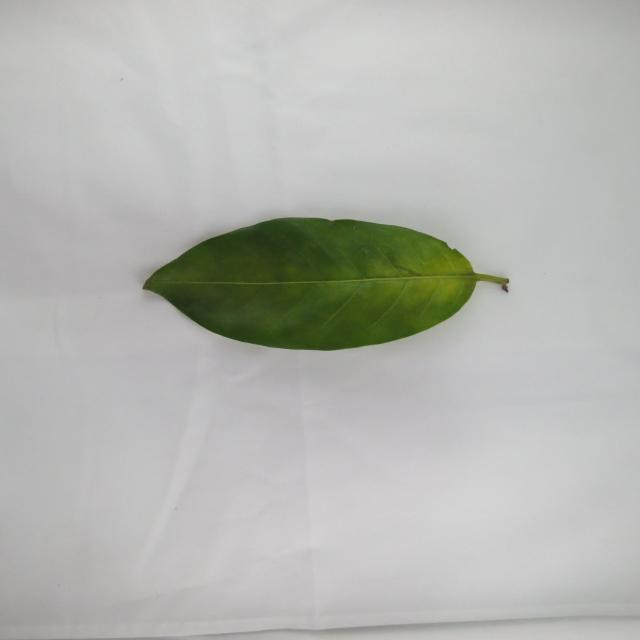DeficienciaNutricional-Magnesio: (143, 218, 510, 350)
